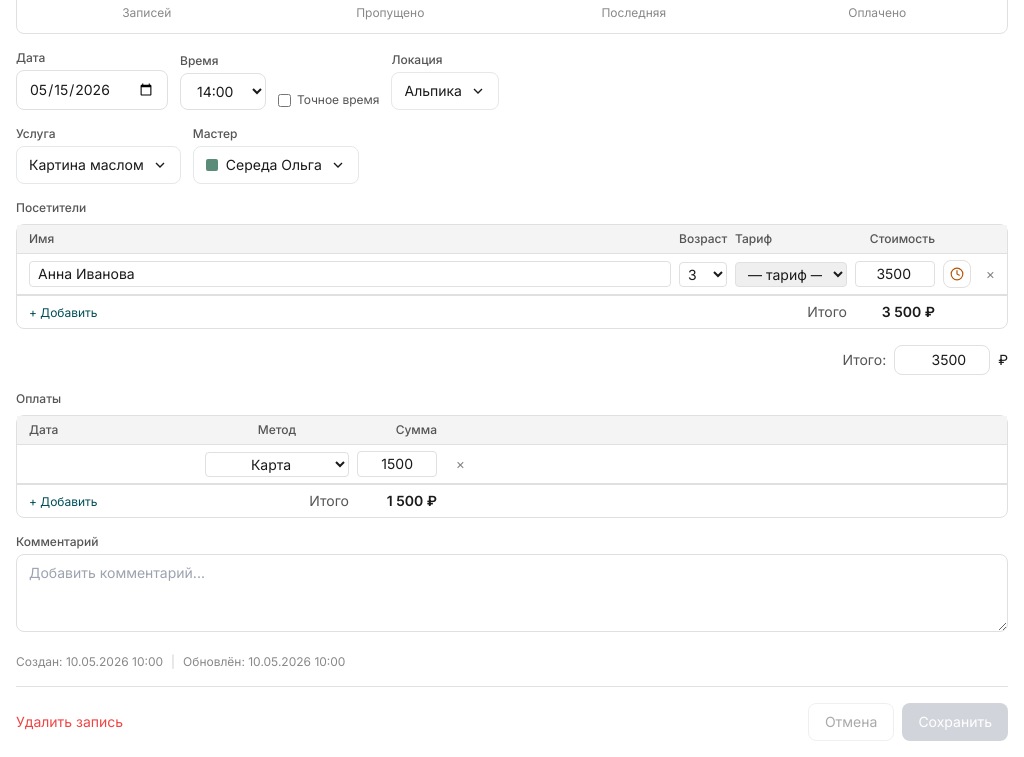
Test: ClientRecordTab — API interactions › 409 dry-run opens DeleteDialog listing deps; confirm enqueues the cascade (expected ids from items)
The width and height of the screenshot is (1024, 757).
(page scrolled)
Click the button "Удалить запись" at point(70, 722), box [16,712,123,732]
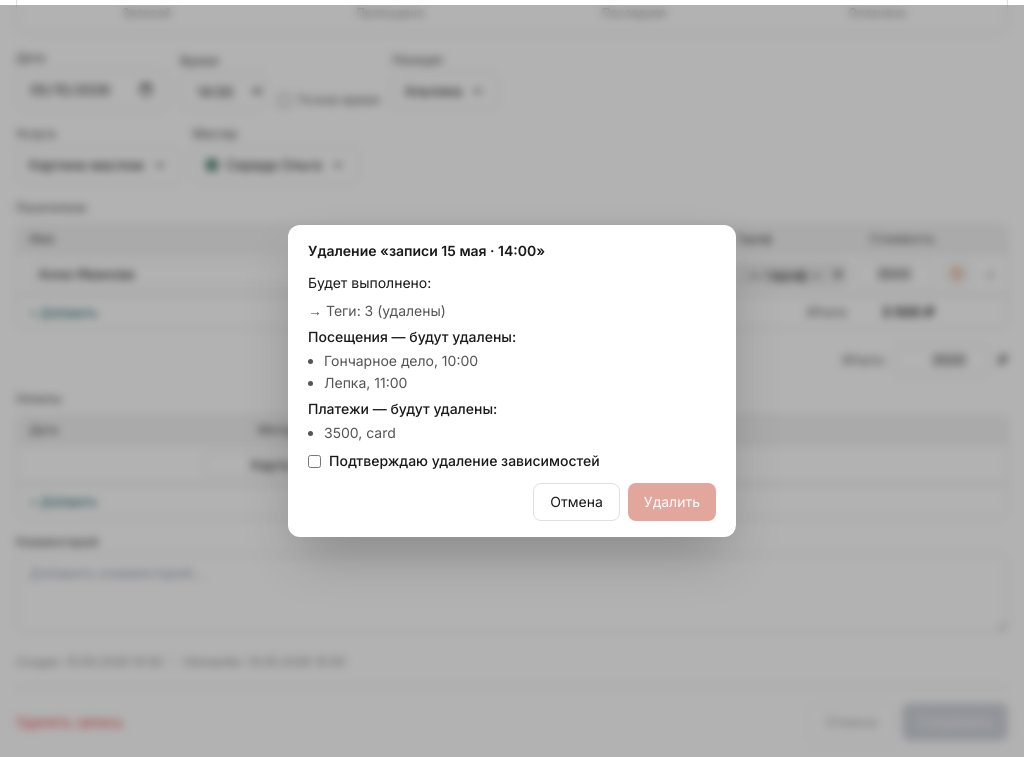
Now the element with test id "delete-dialog" is shown, box [288,225,736,537]
Now the list item with test id "dep-visits" is shown, box [308,328,516,391]
Now the list item with test id "dep-payments" is shown, box [308,400,497,441]
# The confirm checkbox unlocks "Удалить" (visits+payments resolve cascade)
Click the checkbox with test id "delete-dialog-confirm-checkbox" at point(314, 461), box [308,454,321,468]
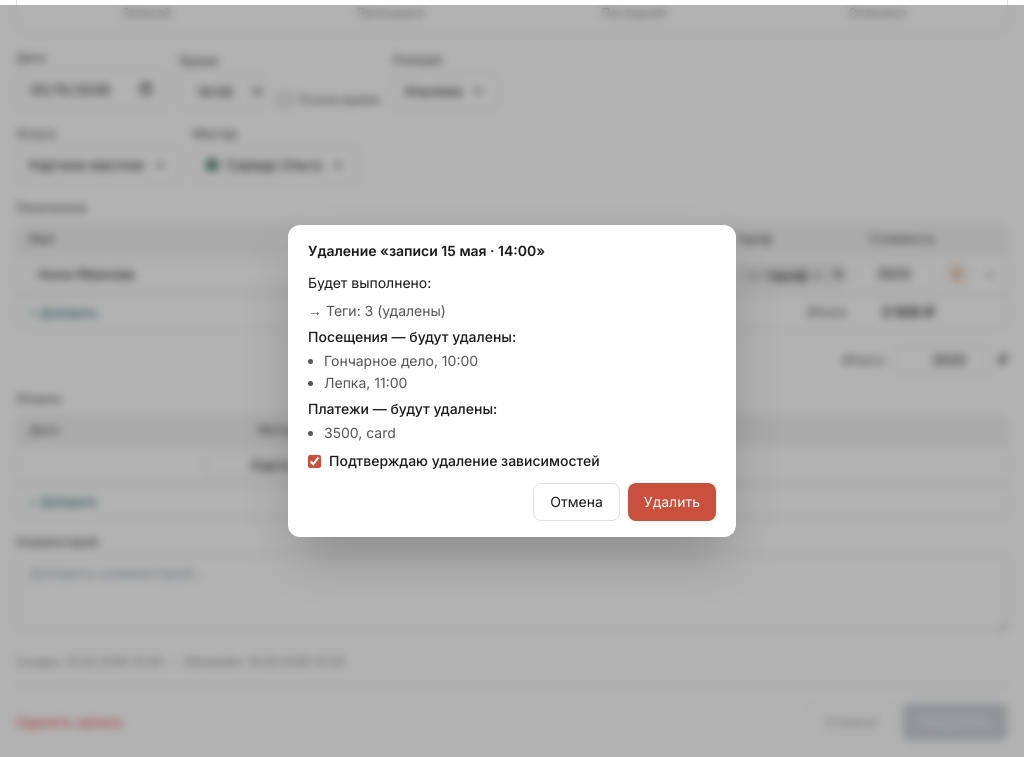
Click the button with test id "delete-dialog-confirm-btn" at point(672, 502), box [628,483,716,521]
(page scrolled)
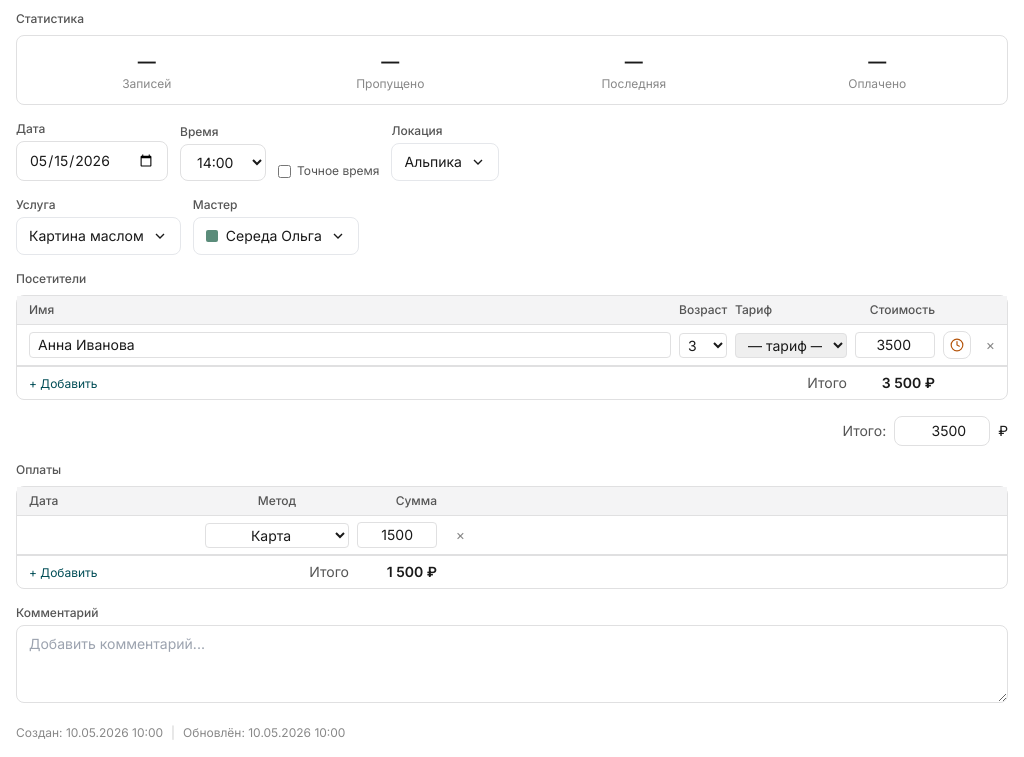
Now the element with test id "delete-dialog" is gone
